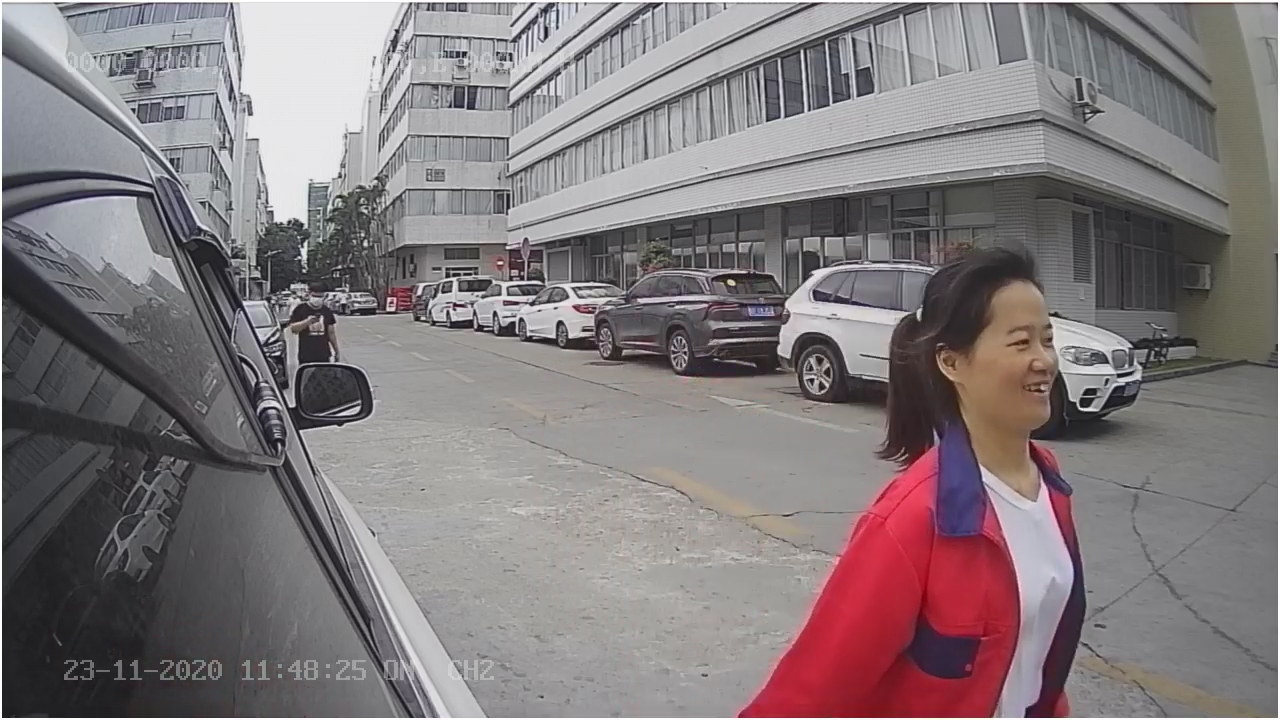person: (807, 240, 1089, 694)
